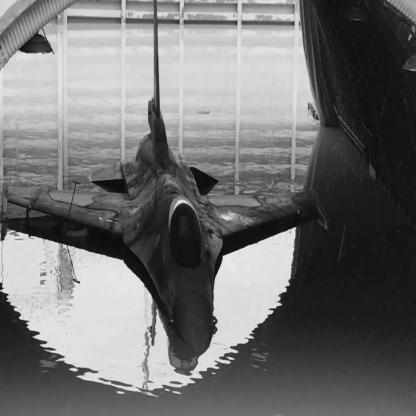F16: (1, 2, 330, 354)
